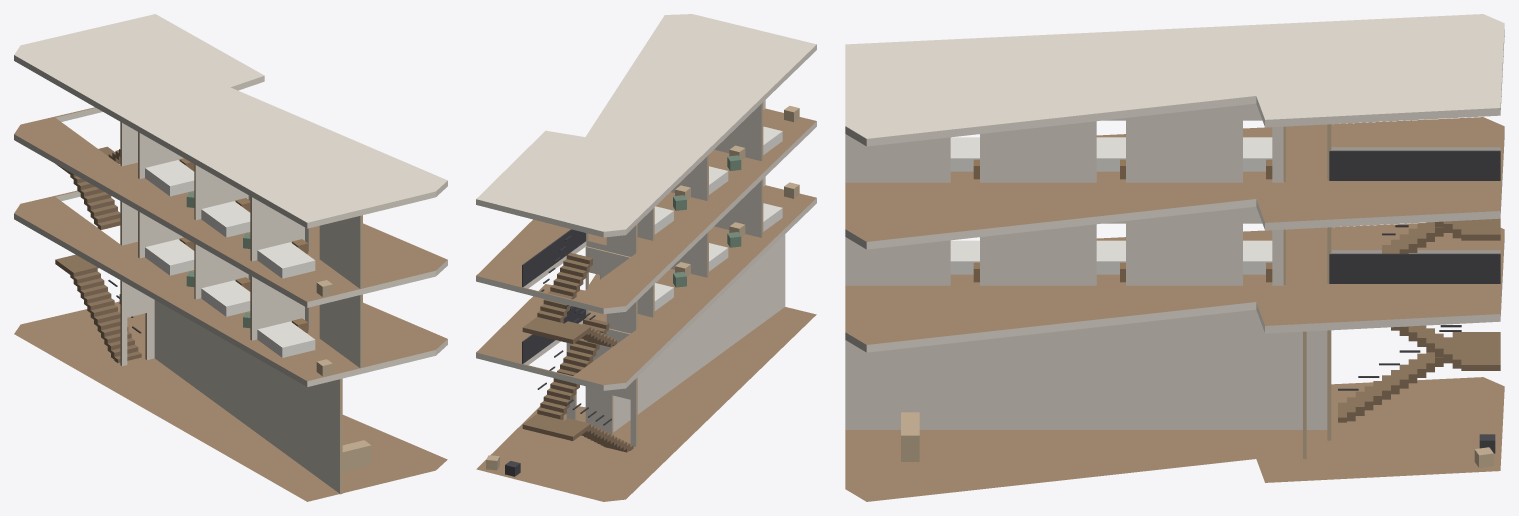
Rendered from interior.glb.
3 views of the same model, side by side, from view 1: azimuth 30°, elevation 25°; view 2: azimuth 150°, elevation 25°; view 3: azimuth 270°, elevation 25° (orthographic). The views are drawn at different scales.
Visible parts, largest first — view 1: slabs, partitions, coarse-s1, coarse-s2, stair, coarse-s0; view 2: slabs, partitions, stair, coarse-s2, coarse-s1, coarse-s0; view 3: slabs, partitions, stair, coarse-s2, coarse-s1, coarse-s0.
Part boxes in pixels (x1,y1,x2,y2): slabs: (14,14,447,501); partitions: (120,122,362,494); coarse-s1: (145,237,332,376); coarse-s2: (145,158,332,296); stair: (55,146,141,362); coarse-s0: (119,294,371,472); slabs: (476,14,816,501); partitions: (566,100,785,446); stair: (522,229,633,452); coarse-s2: (654,105,799,234); coarse-s1: (654,182,799,310); coarse-s0: (486,455,520,476); slabs: (845,14,1504,501); partitions: (845,103,1331,458); stair: (1329,150,1500,422); coarse-s2: (950,137,1272,179); coarse-s1: (950,240,1272,282); coarse-s0: (901,412,1495,467).
Size of the model in its own units: 9.06 by 12.3 by 20.22.
